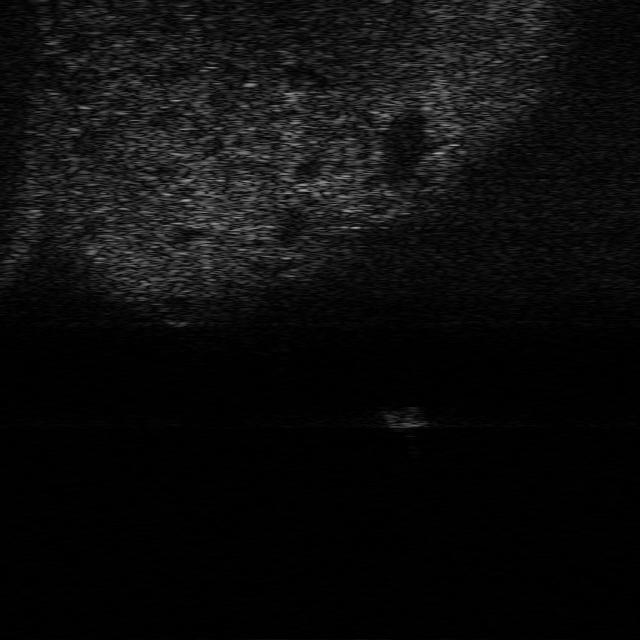cube: (379, 406, 430, 430)
